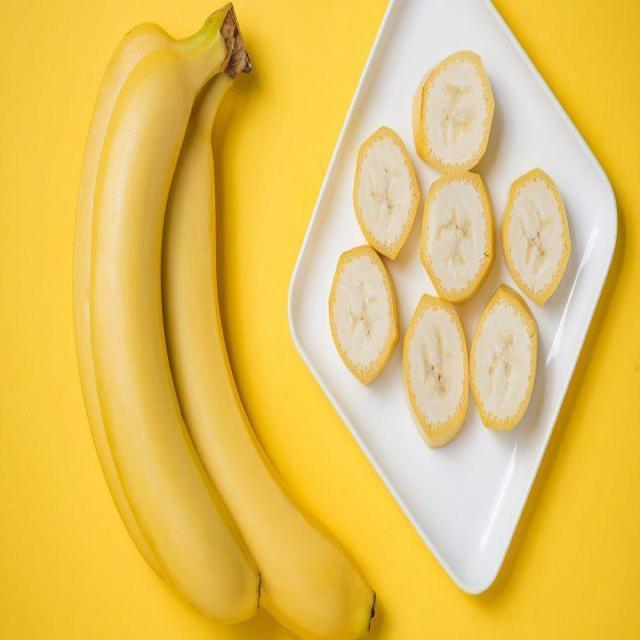Banana: (70, 10, 370, 632), (328, 48, 574, 450), (398, 291, 472, 448), (469, 282, 539, 436), (412, 50, 497, 176), (328, 244, 400, 388), (349, 120, 422, 260), (420, 169, 496, 302), (499, 164, 574, 298)
